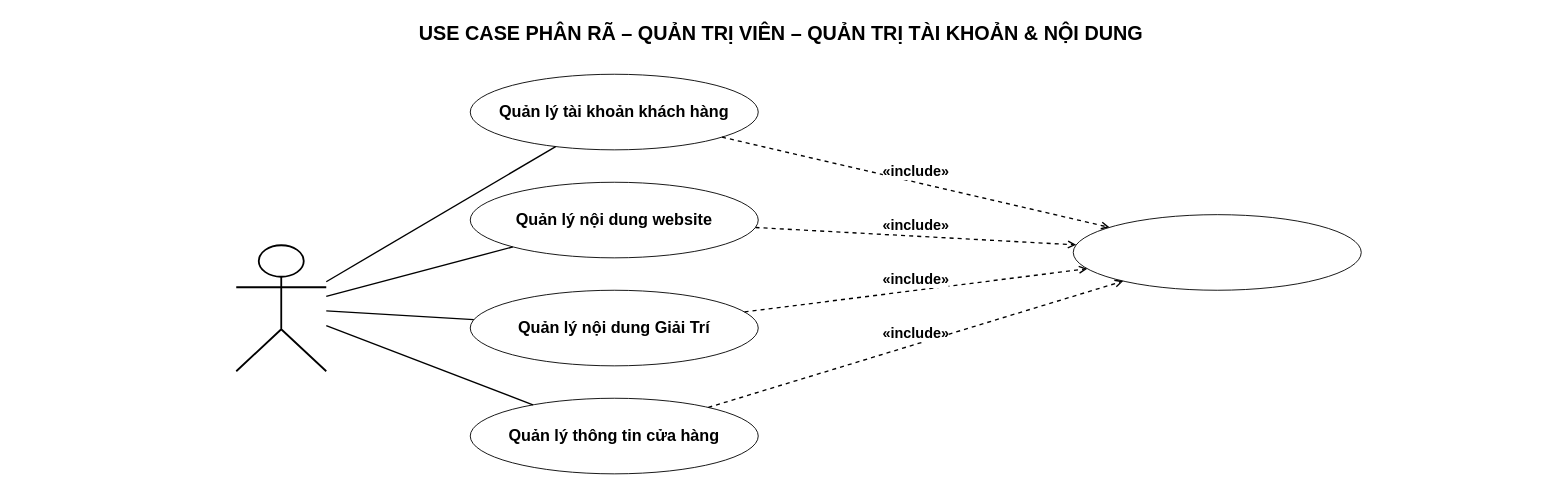
This 1561x490 diagram has some shape labels left out. Each missing label, with the box of its shape:
Quản trị viên: (235, 244, 327, 372)
Đăng nhập quản trị: (1072, 214, 1361, 290)
